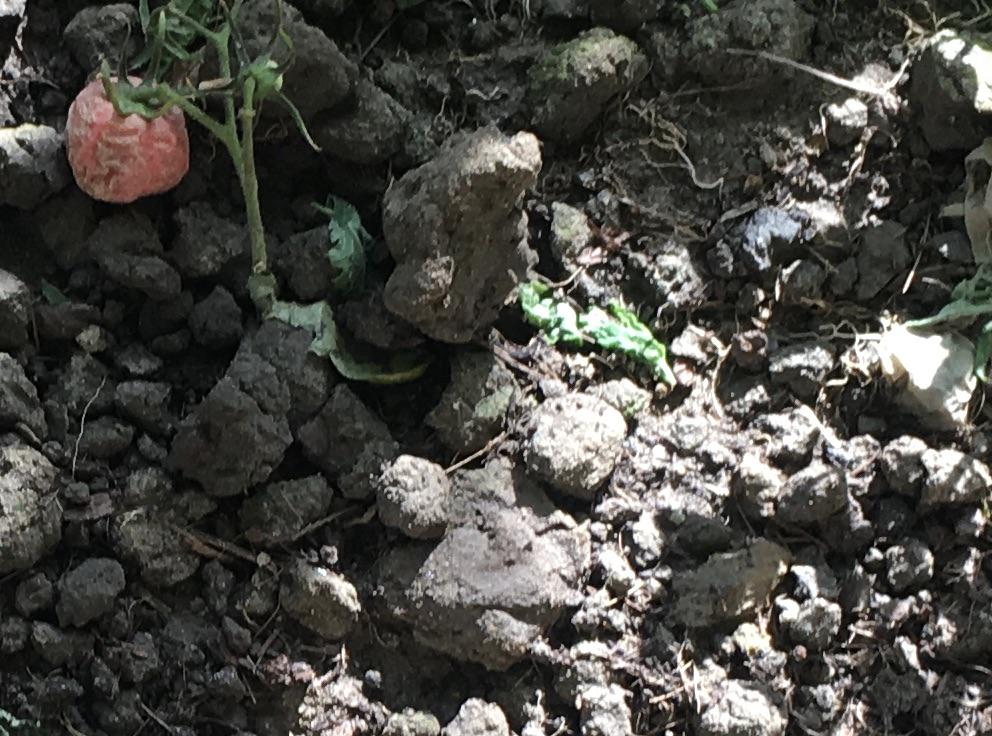block: (371, 447, 589, 664), (378, 128, 542, 347), (161, 347, 293, 497), (527, 389, 622, 495)
